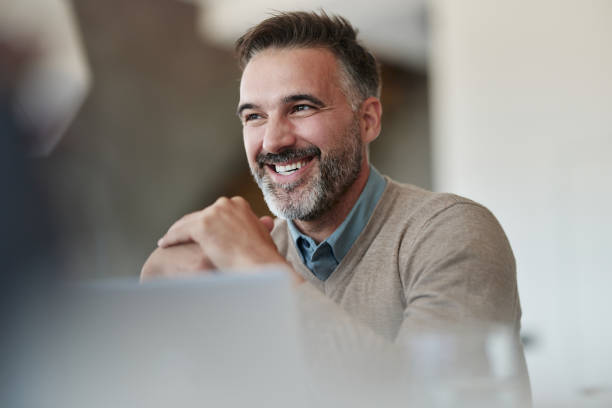Male: (140, 5, 516, 286)
